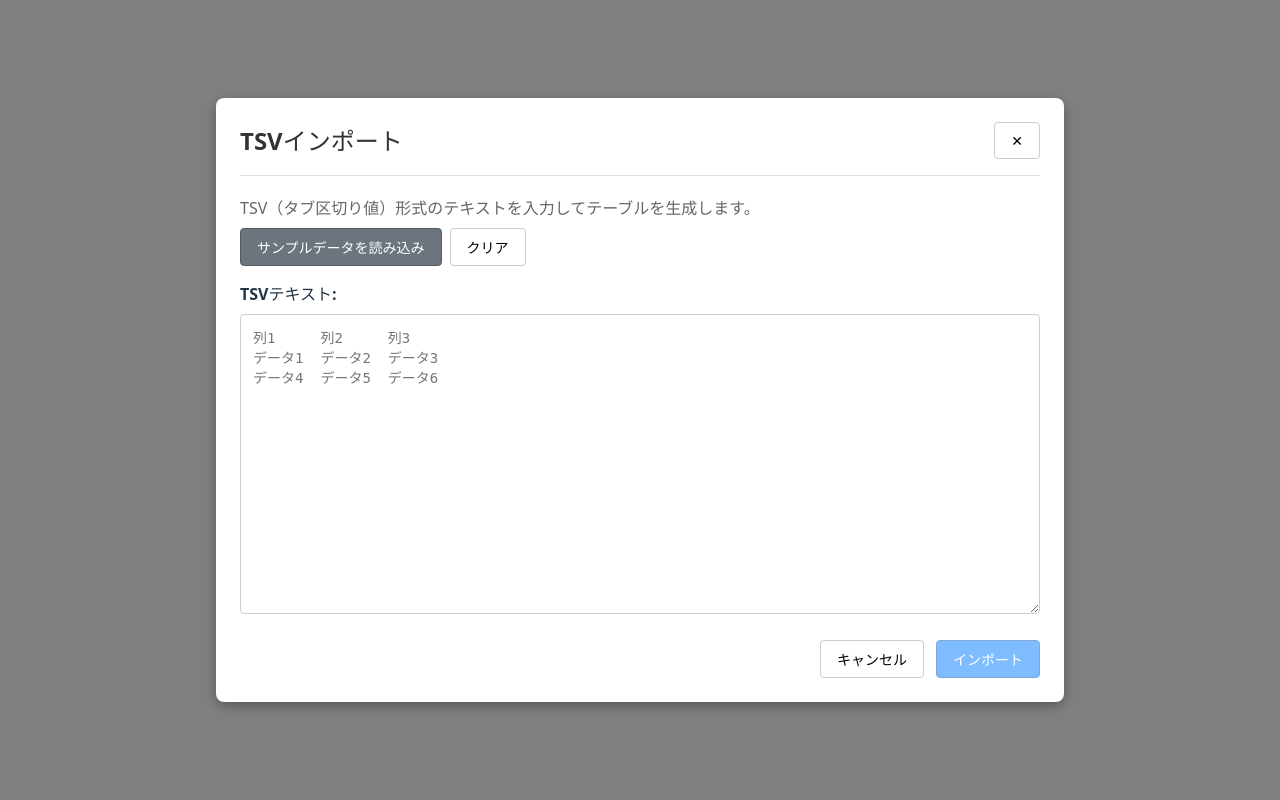
Test case: TSVImportModal › クリアボタンでテキストエリアがクリアされる
// まずサンプルデータを読み込む
Click the button "サンプルデータを読み込み" at [341, 247], box [240,228,442,266]
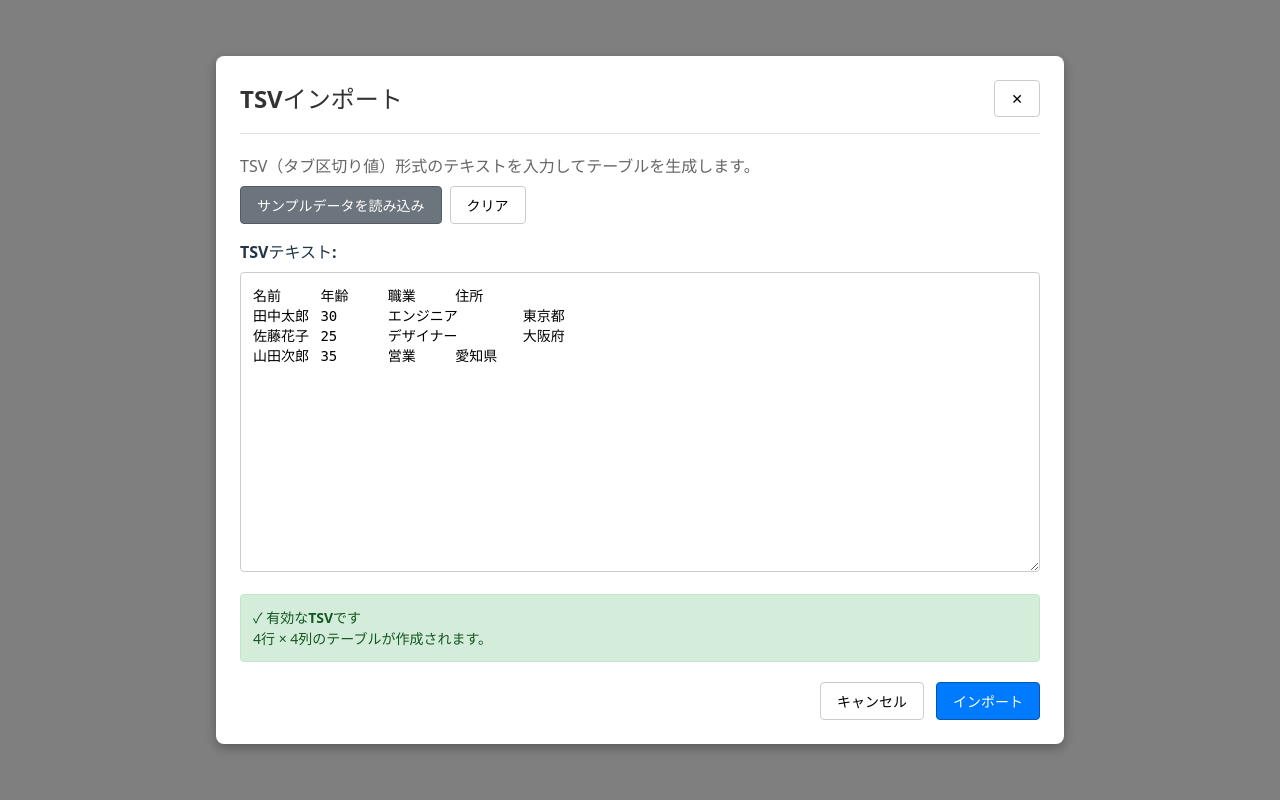
Now the text box labelled "TSVテキスト:" is not empty, box [240,272,1040,572]
// クリアボタンをクリック
Click the button "クリア" at [488, 205], box [450,186,526,224]
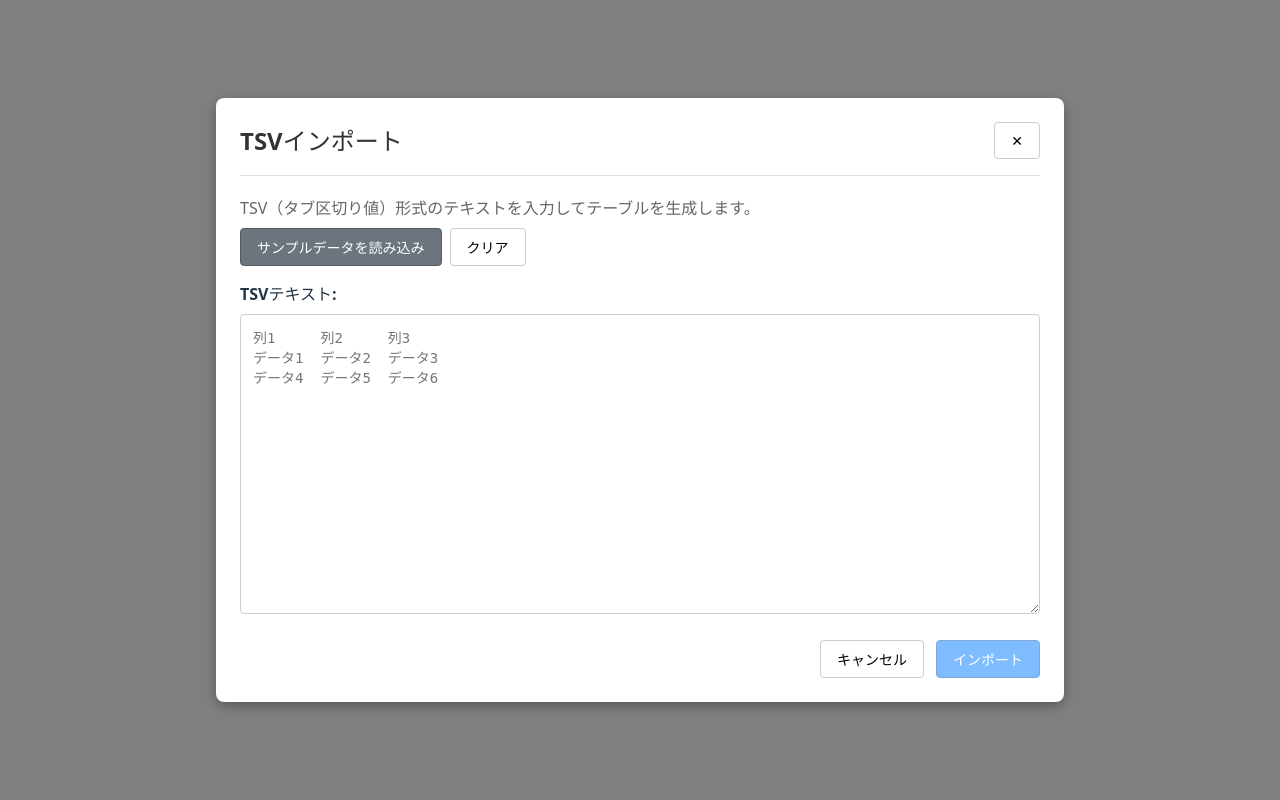
Now the text box labelled "TSVテキスト:" is empty, box [240,314,1040,614]
